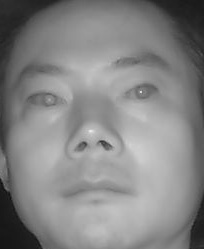eye: (24, 87, 68, 114), (120, 80, 160, 104)
mouth: (61, 169, 137, 210)
